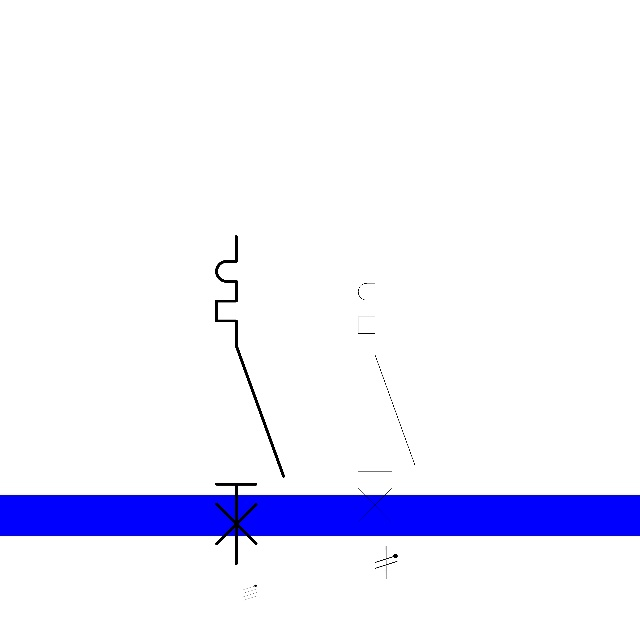interruptor_termomagnetico: (208, 228, 292, 572), (351, 255, 422, 546)
